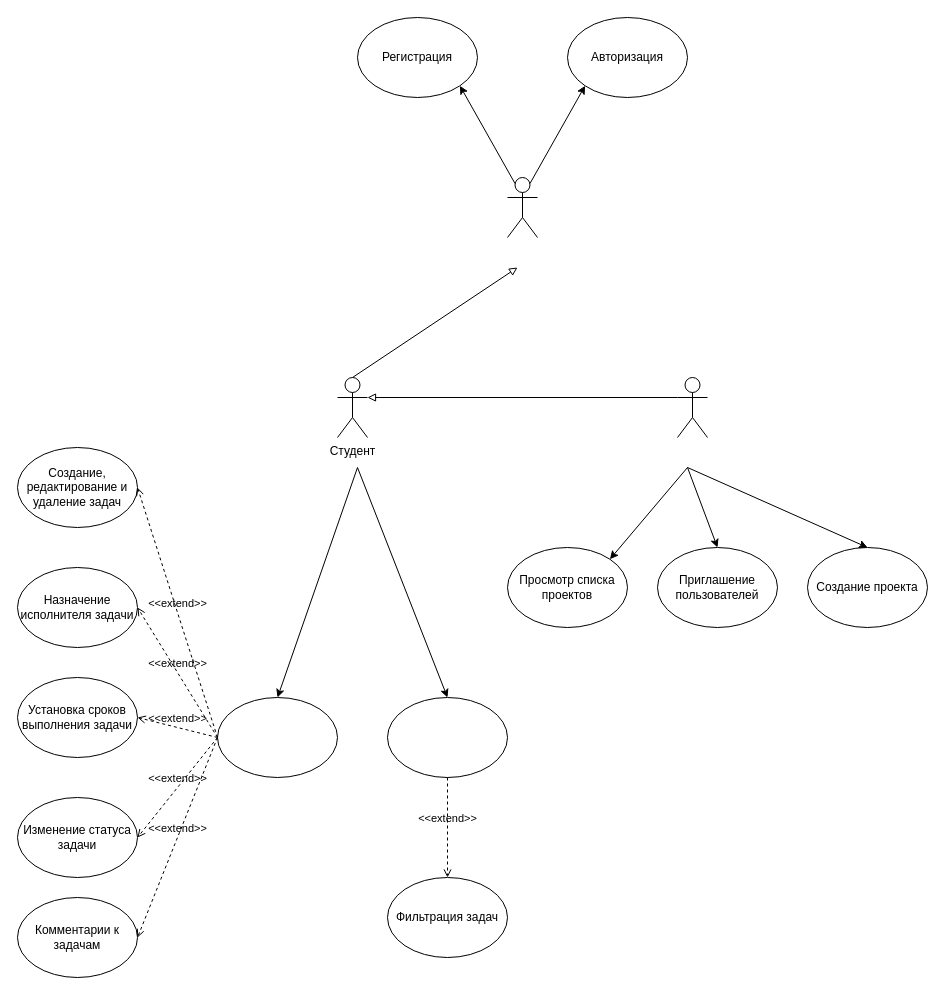
This 945x995 diagram has some shape labels left out. The shapes that lost their labels are listed below. From the top down, each one's box as (x1, y1, x2, y2) in pixels, then its label:
(506, 176, 538, 238): Пользователь
(676, 376, 708, 438): Администратор
(216, 696, 338, 778): Управление задачами
(386, 696, 508, 778): Просмотр задач
